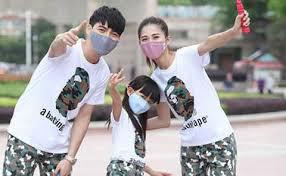OK: (91, 26, 123, 57), (142, 31, 167, 61), (131, 91, 156, 115)
